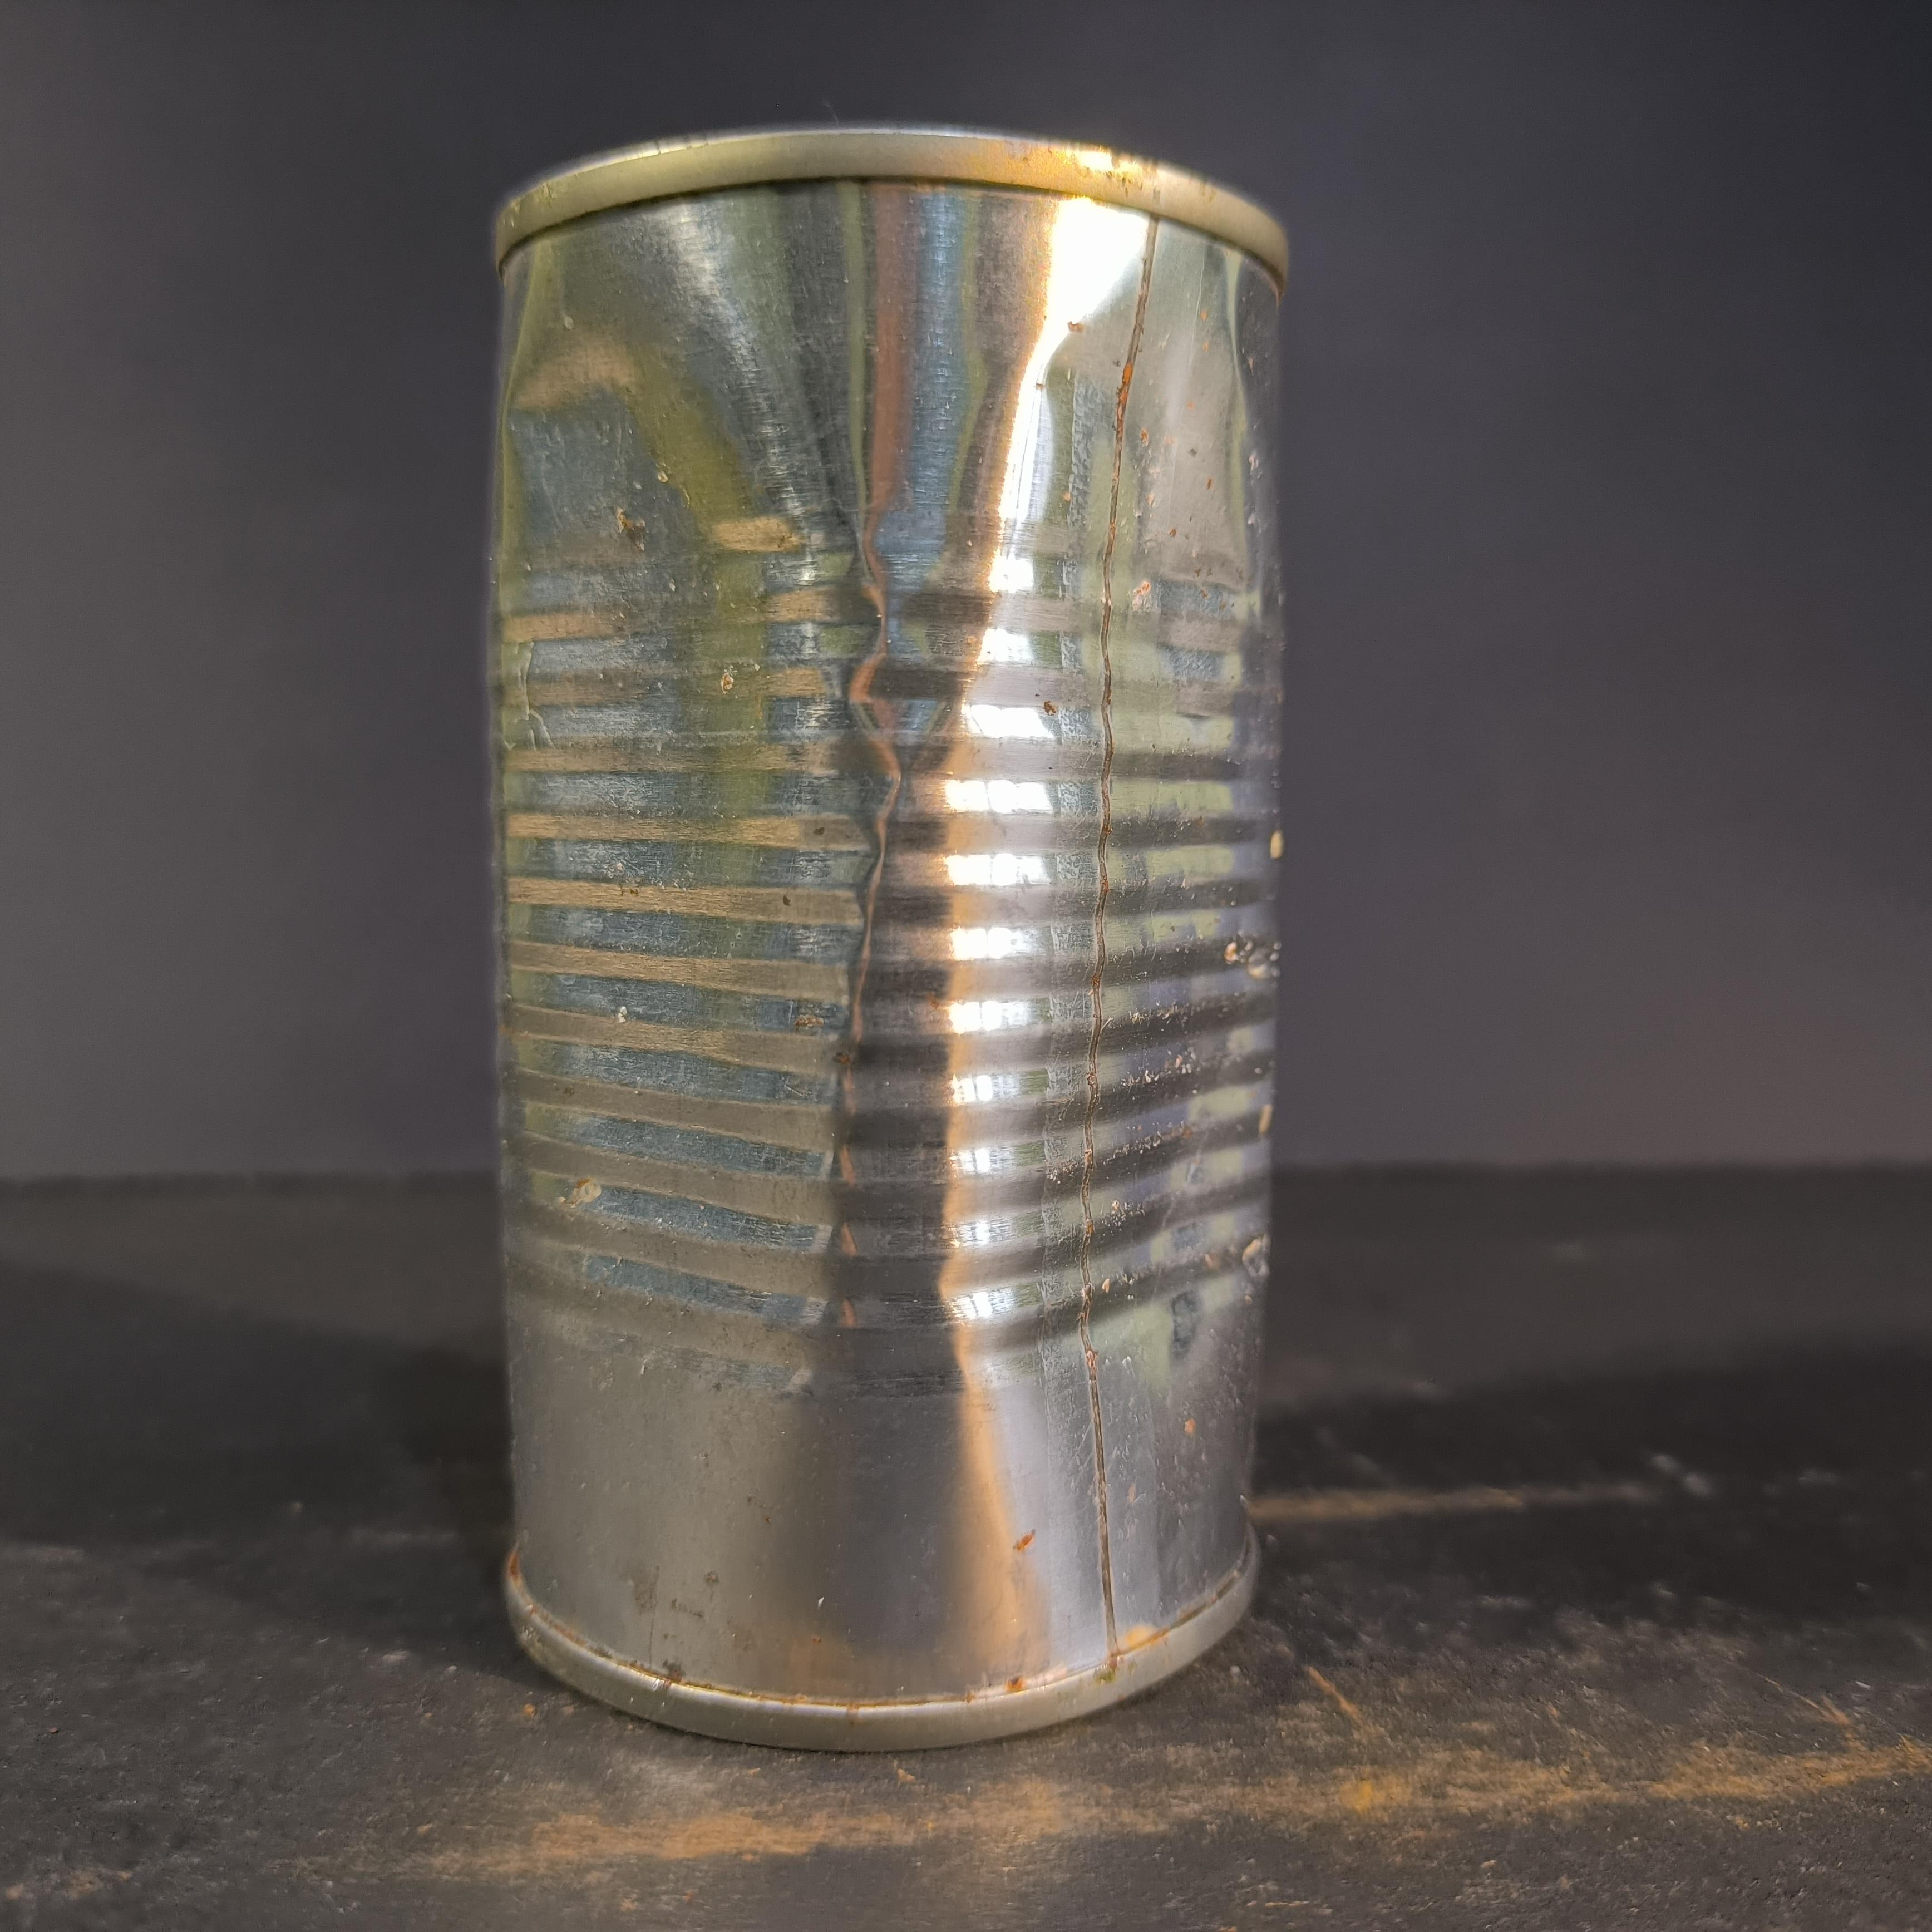Dented: (453, 97, 1313, 1750)
